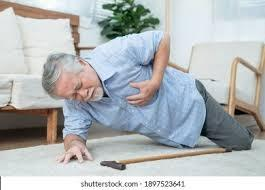fallen: (43, 33, 252, 164)
